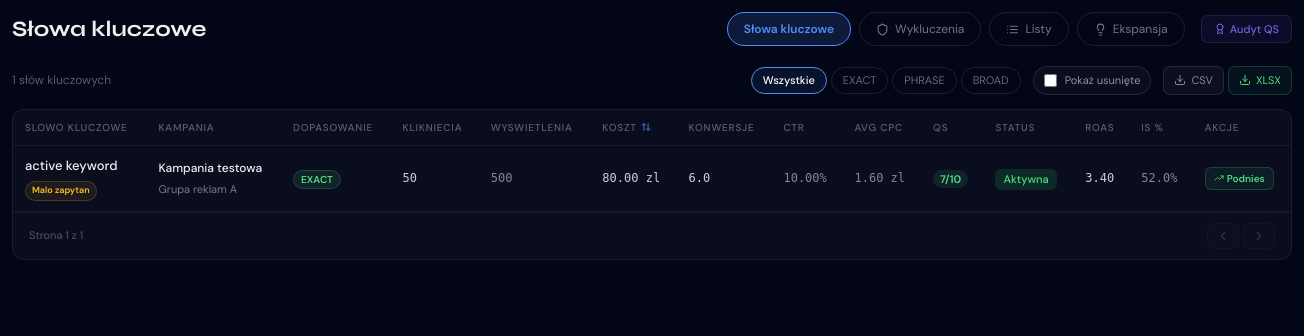
Test: Keywords page › shows removed keywords only after enabling the local toggle
Expected: the text "active keyword" is shown, [25,156,118,174]
Click the checkbox labelled "Pokaż usunięte". click: [1050, 80]
box: [1044,74,1057,87]
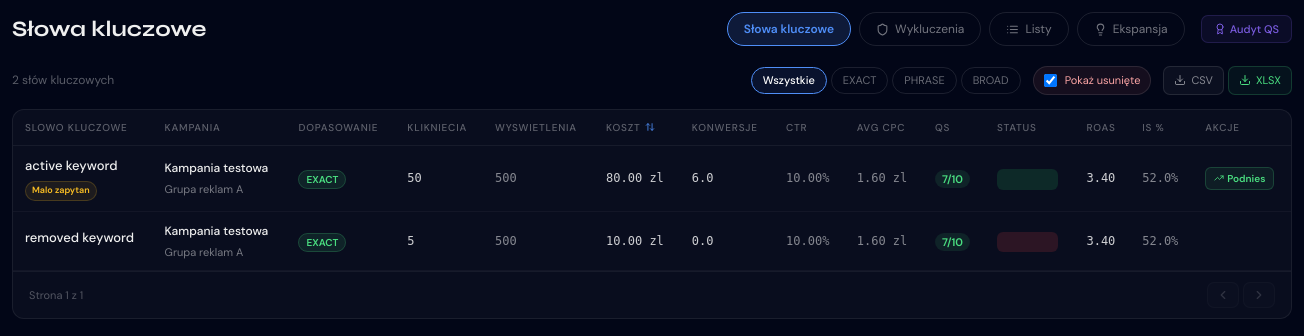
Expected: the text "removed keyword" is shown, [25,228,141,248]
Expected: the text "Usunięta" is shown, [997,232,1058,252]
